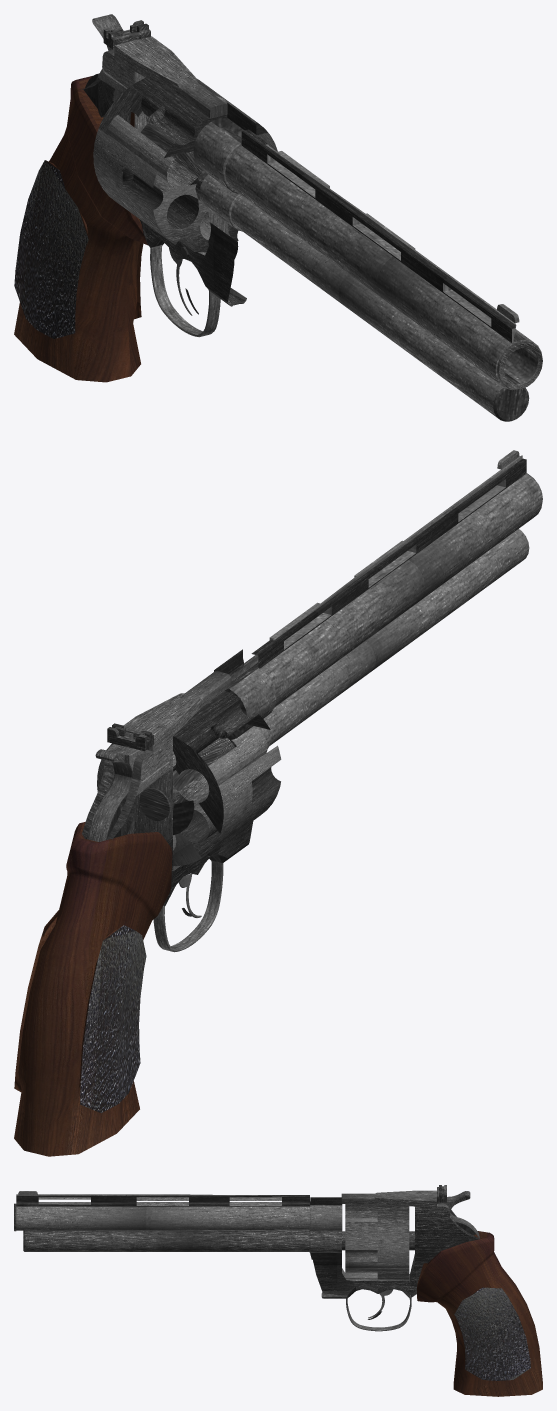
The model's file is Colt.fbx.
3 views of the same model, one above another, from view 1: azimuth 30°, elevation 25°; view 2: azimuth 150°, elevation 25°; view 3: azimuth 270°, elevation 25° (orthographic). The views are drawn at different scales.
Visible parts, largest first — view 1: Barrel, Handle, Drum, Hammer; view 2: Barrel, Handle, Drum, Hammer; view 3: Barrel, Handle, Drum, Hammer.
Part boxes in pixels (x1,y1,x2,y2): Barrel: [81, 20, 542, 421]; Handle: [14, 76, 147, 382]; Drum: [93, 77, 277, 252]; Hammer: [84, 14, 131, 123]; Barrel: [82, 450, 542, 952]; Handle: [14, 822, 172, 1156]; Drum: [97, 691, 281, 866]; Hammer: [87, 745, 142, 841]; Barrel: [14, 1185, 479, 1331]; Handle: [417, 1231, 542, 1396]; Drum: [345, 1204, 409, 1279]; Hammer: [437, 1191, 479, 1238].
Bounding box in the file's own units: 2.48 × 6.66 × 16.33.
